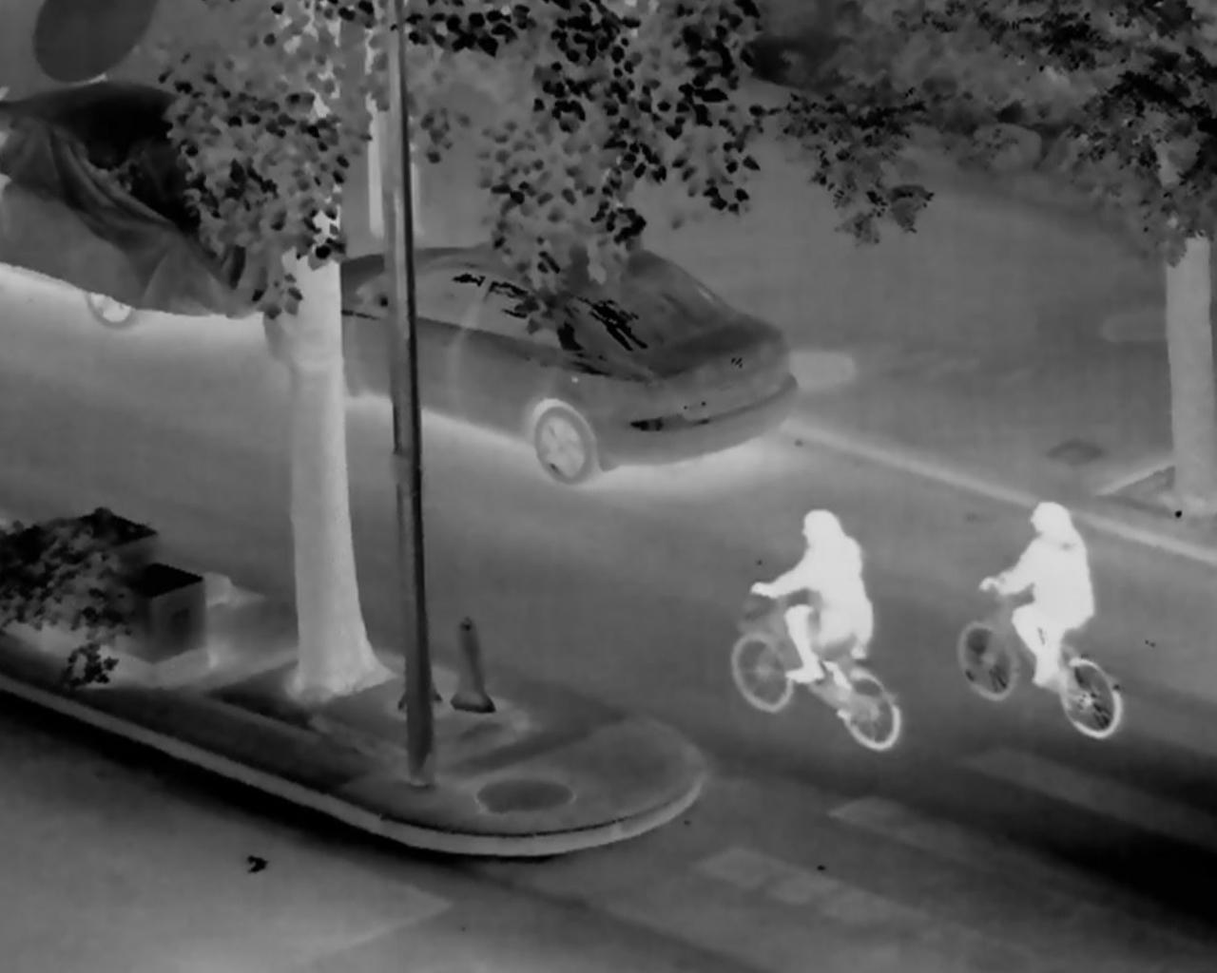person: (749, 511, 871, 685), (979, 503, 1094, 685)
